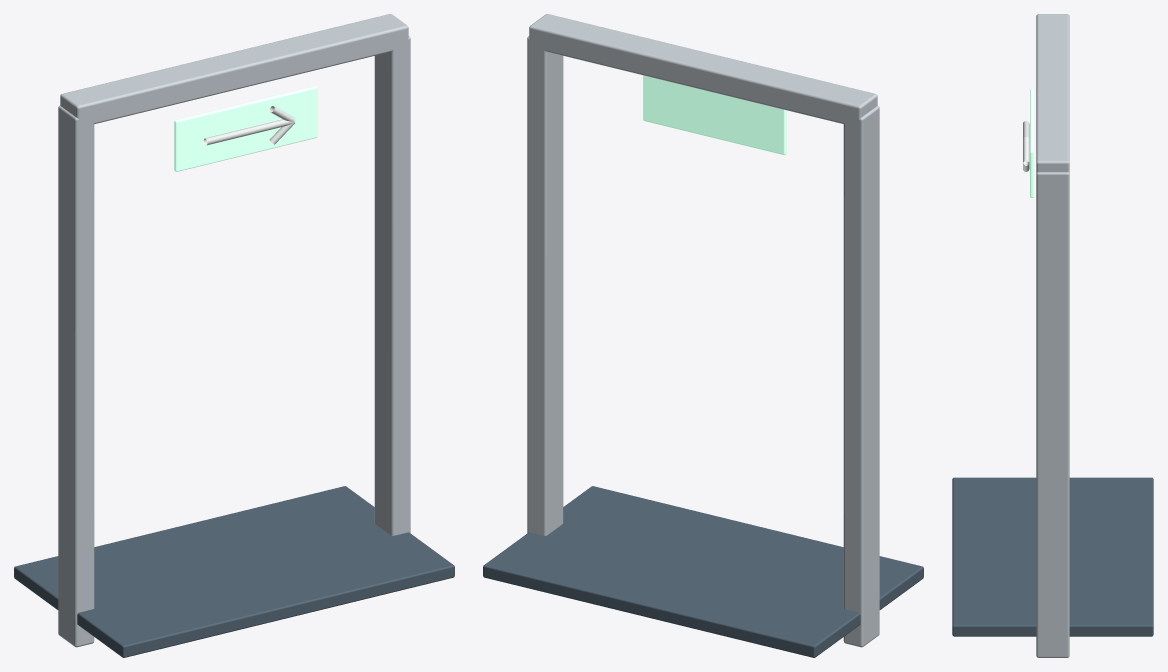
Rendered from fire-exit.glb.
The picture shows the model from 3 angles, left to right: view 1: azimuth 30°, elevation 25°; view 2: azimuth 150°, elevation 25°; view 3: azimuth 270°, elevation 25°; orthographic projection. The views are drawn at different scales.
Visible parts, largest first — view 1: fire-exit; view 2: fire-exit; view 3: fire-exit.
Boxes of the visible parts, box(x1,y1,x2,y2) form: fire-exit: box(14, 14, 454, 657); fire-exit: box(483, 14, 923, 657); fire-exit: box(952, 14, 1153, 657).
Bounding box in the file's own units: 0.425 × 0.6535 × 0.24.
